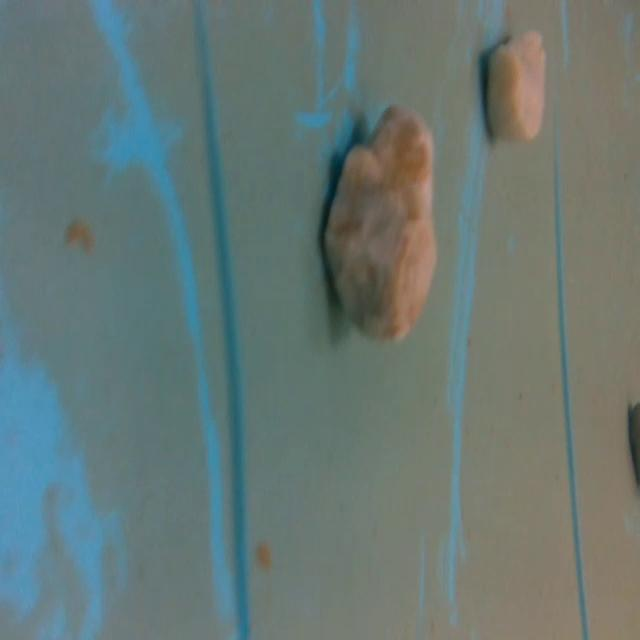rock: (309, 93, 456, 351), (476, 23, 554, 156)
